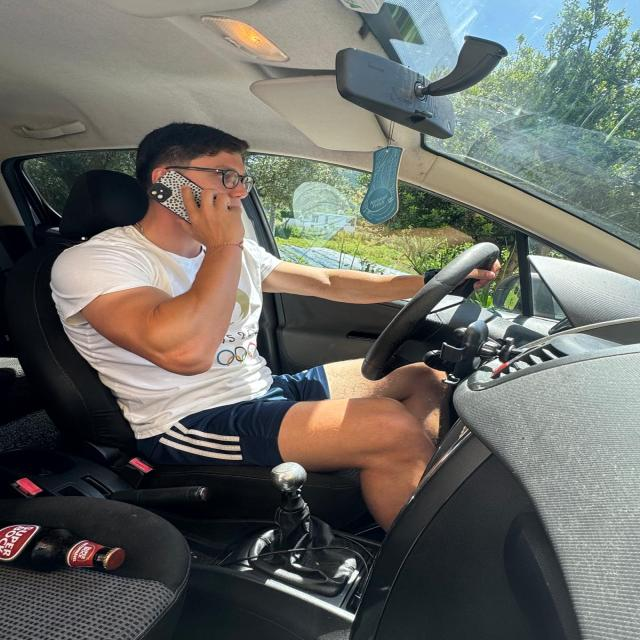Phone: (112, 156, 244, 246)
